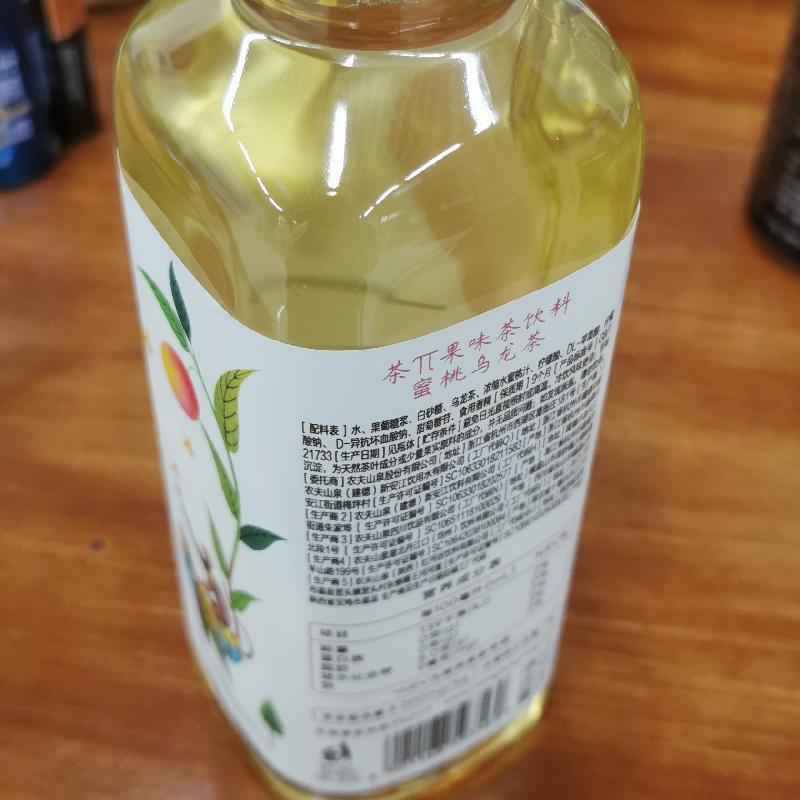bottles: (105, 1, 648, 799)
